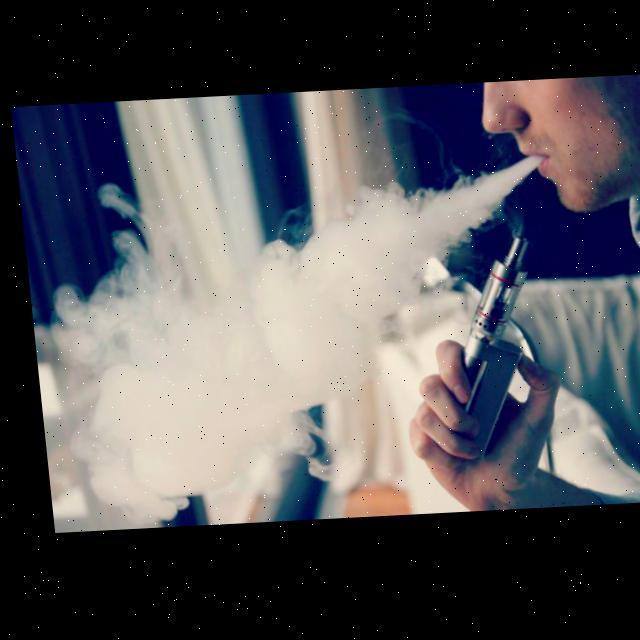vape: (447, 241, 542, 465)
